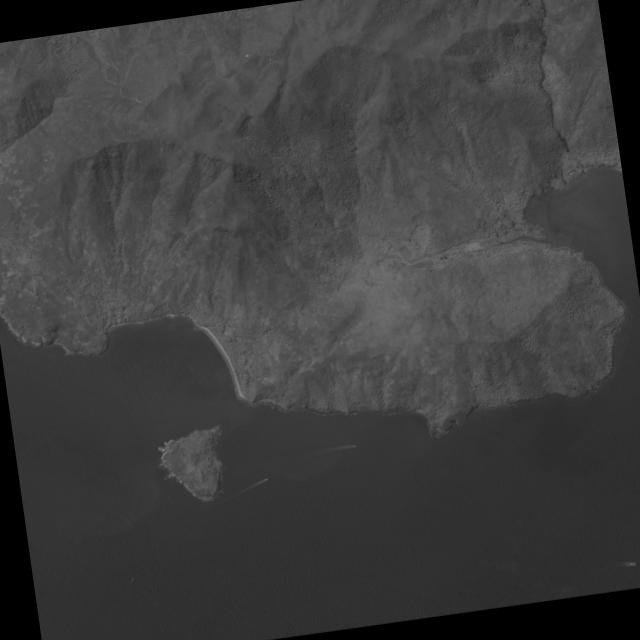ship: (265, 477, 269, 480), (353, 444, 357, 446), (632, 562, 636, 564)
